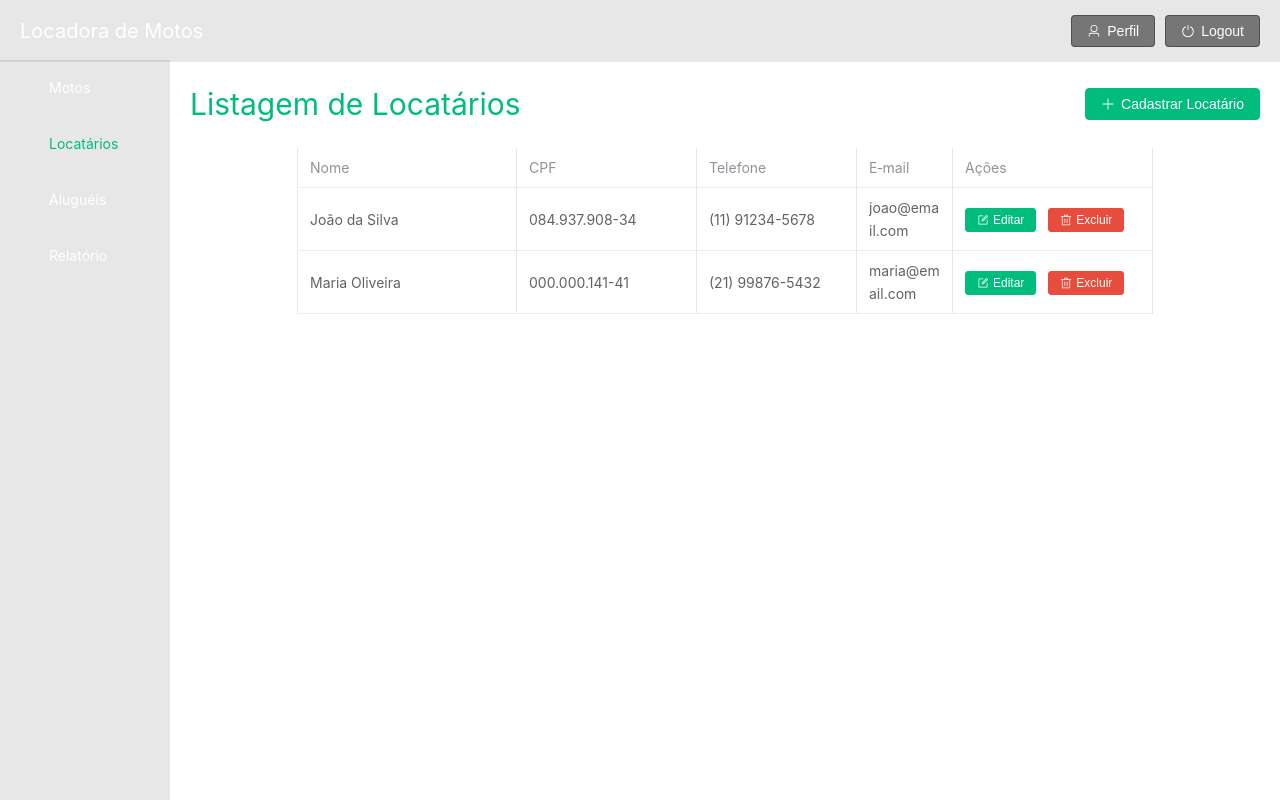
it: Tela de Listagem de Locatários › deve abrir o modal de edição ao clicar em Editar
The image size is (1280, 800).
Click the button "Editar" in the row of "João da Silva" at [1001, 220], box [965,208,1036,232]
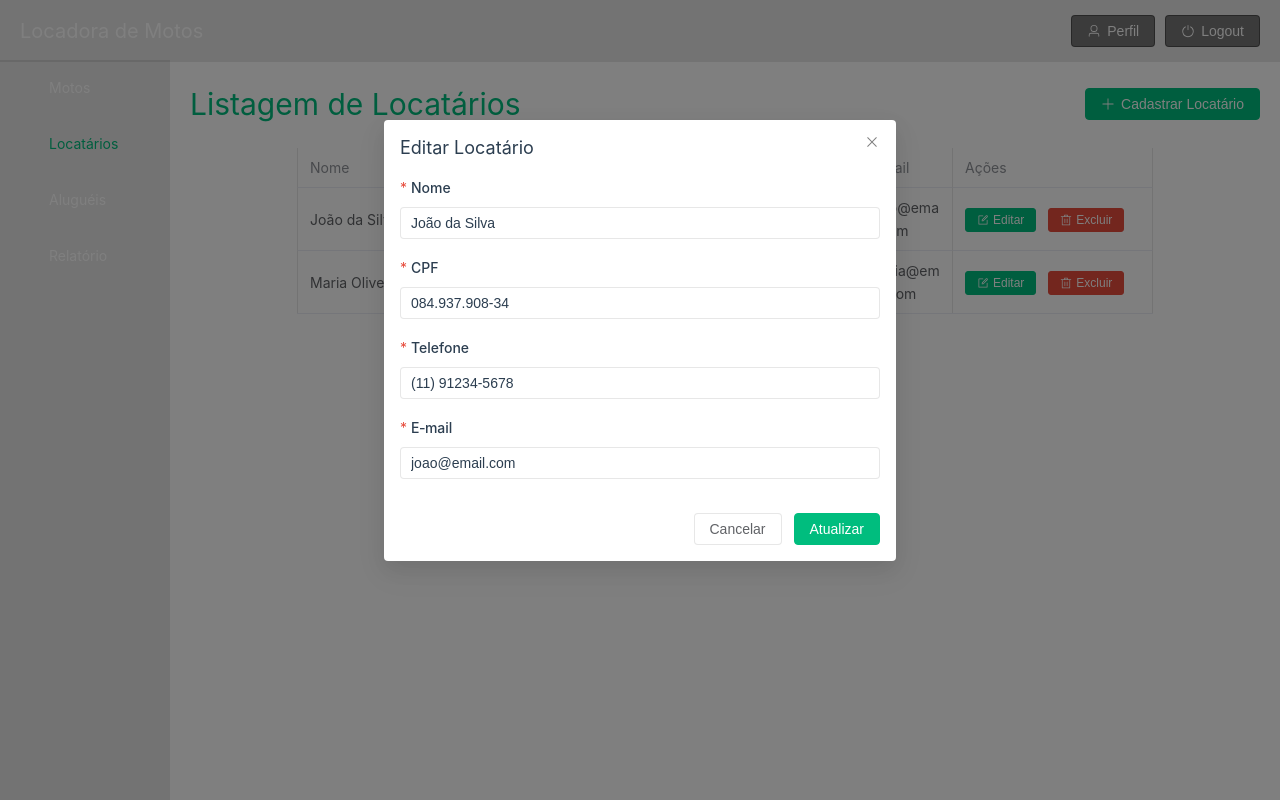
Expected: the heading "Editar Locatário" is shown, [400,137,534,158]
Expected: the field with placeholder "Ex: João da Silva" is shown, [411,208,869,238]
